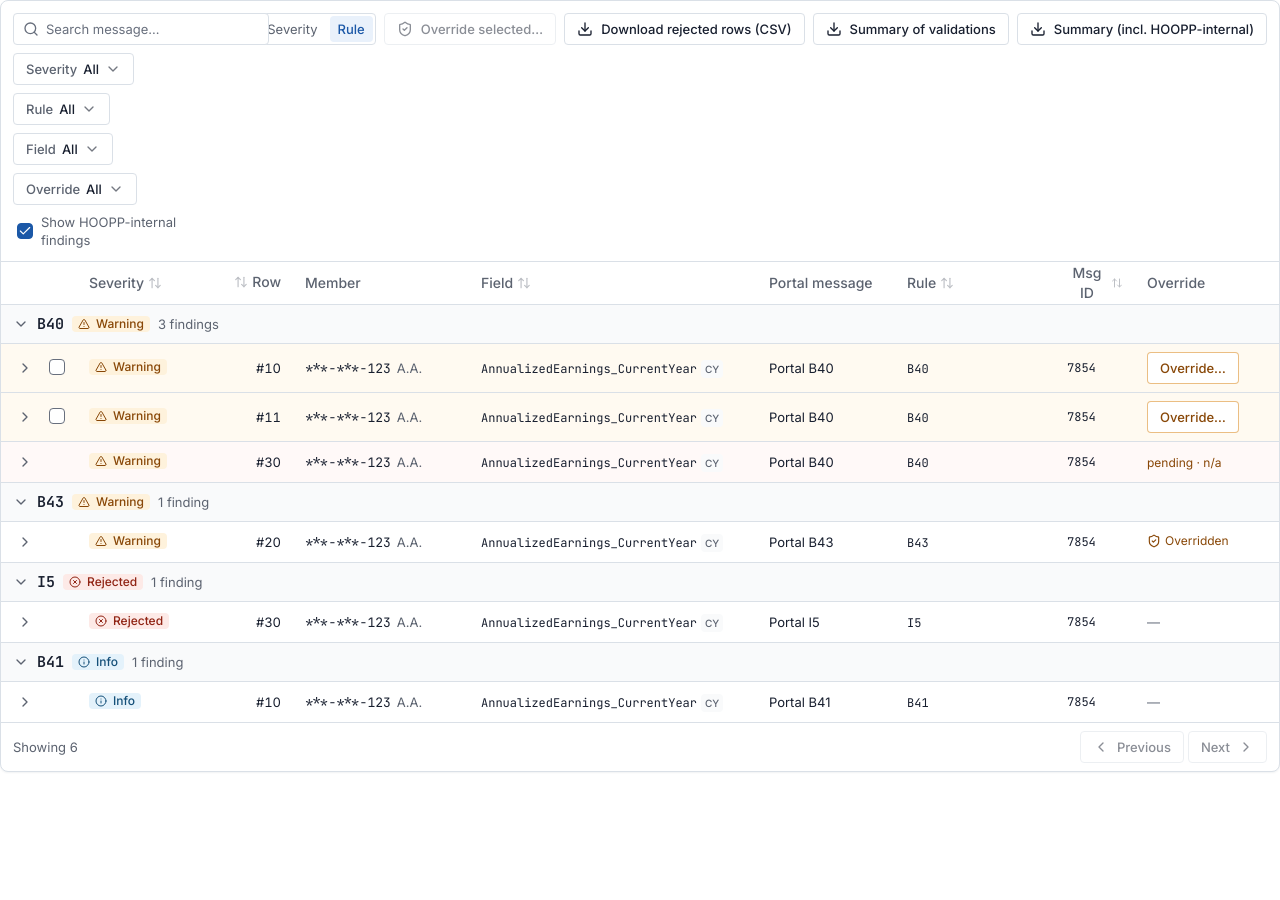
Test case: FindingsView HELD / overridden states (ux 5.4.2, D6, GAP-OVR-1) › bulk selection: enabled only for two or more pending warnings of one rule; rejected rows have no checkbox
expect the button with test id "bulk-override-button" is disabled: met, box [384, 13, 556, 45]
Click the checkbox with test id "select-finding-held" at (57, 366), box [49, 358, 65, 374]
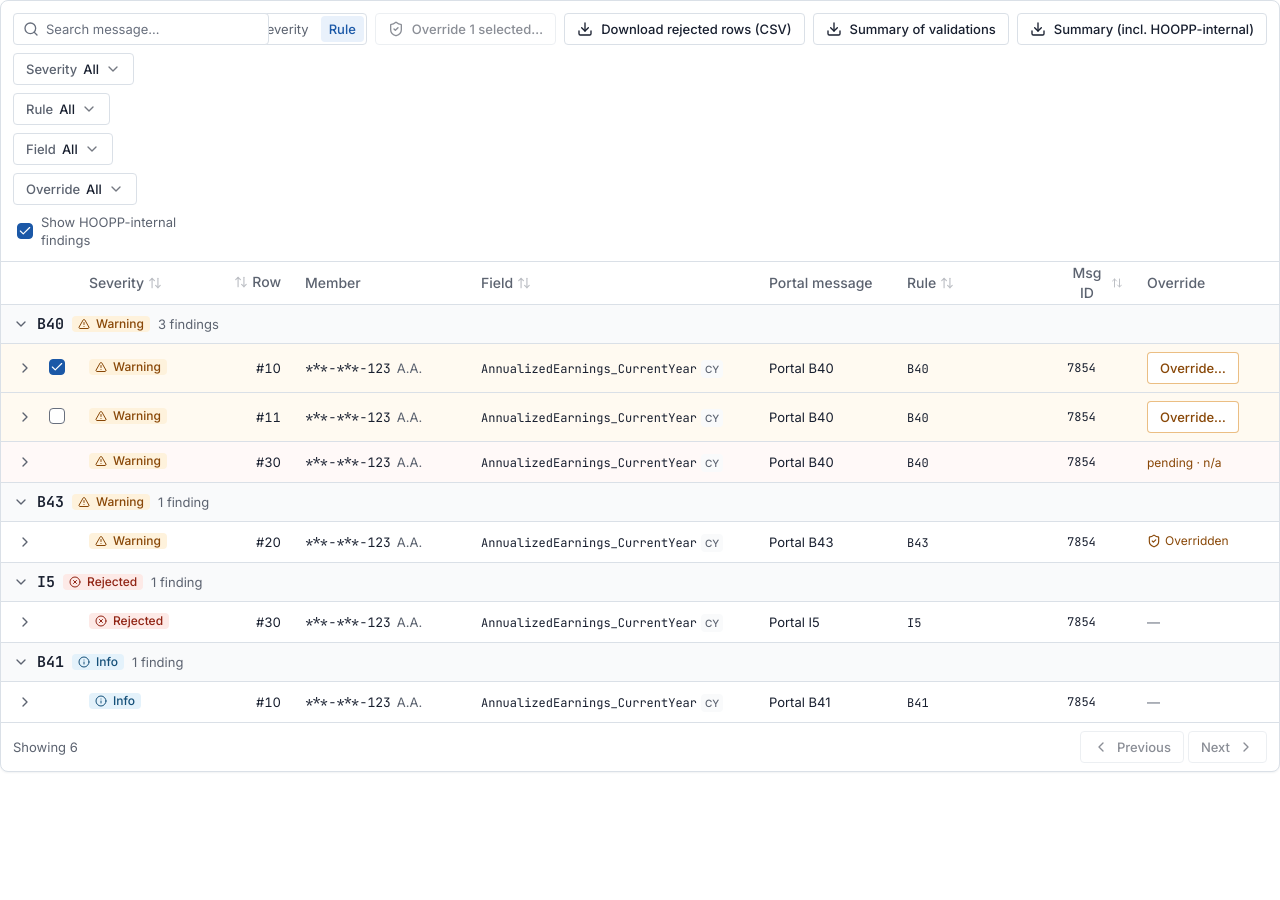
expect the button with test id "bulk-override-button" is disabled: met, box [375, 13, 556, 45]
Click the checkbox with test id "select-finding-held2" at (57, 416), box [49, 408, 65, 424]
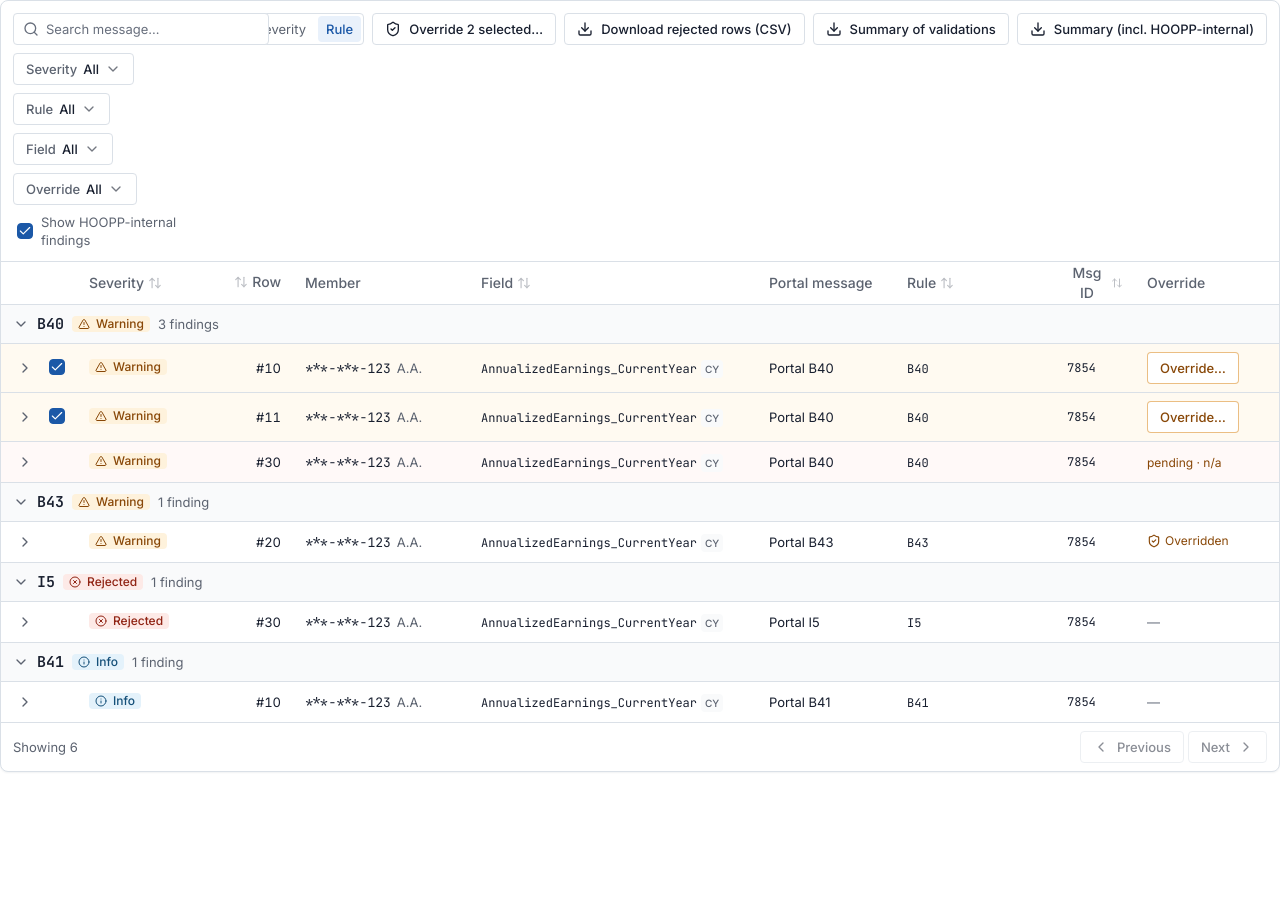
expect the button with test id "bulk-override-button" is enabled: met, box [372, 13, 556, 45]
expect the button with test id "bulk-override-button" shows "Override 2 selected": met, box [372, 13, 556, 45]
